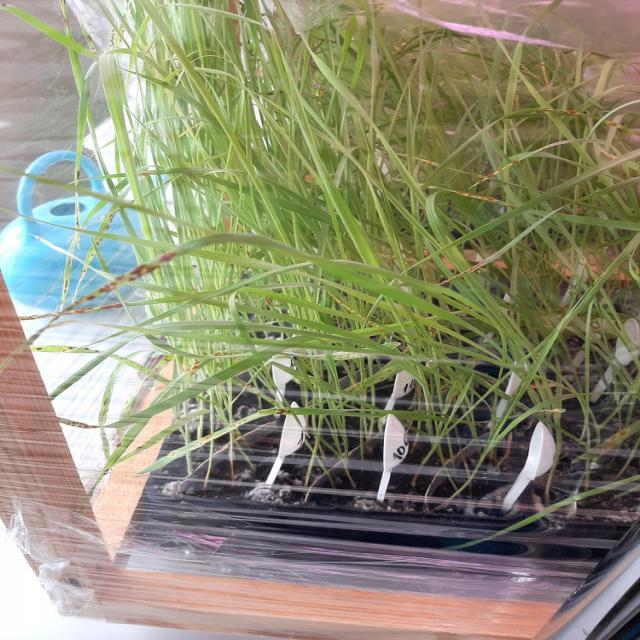wheat-stemrust: (20, 252, 183, 320)
